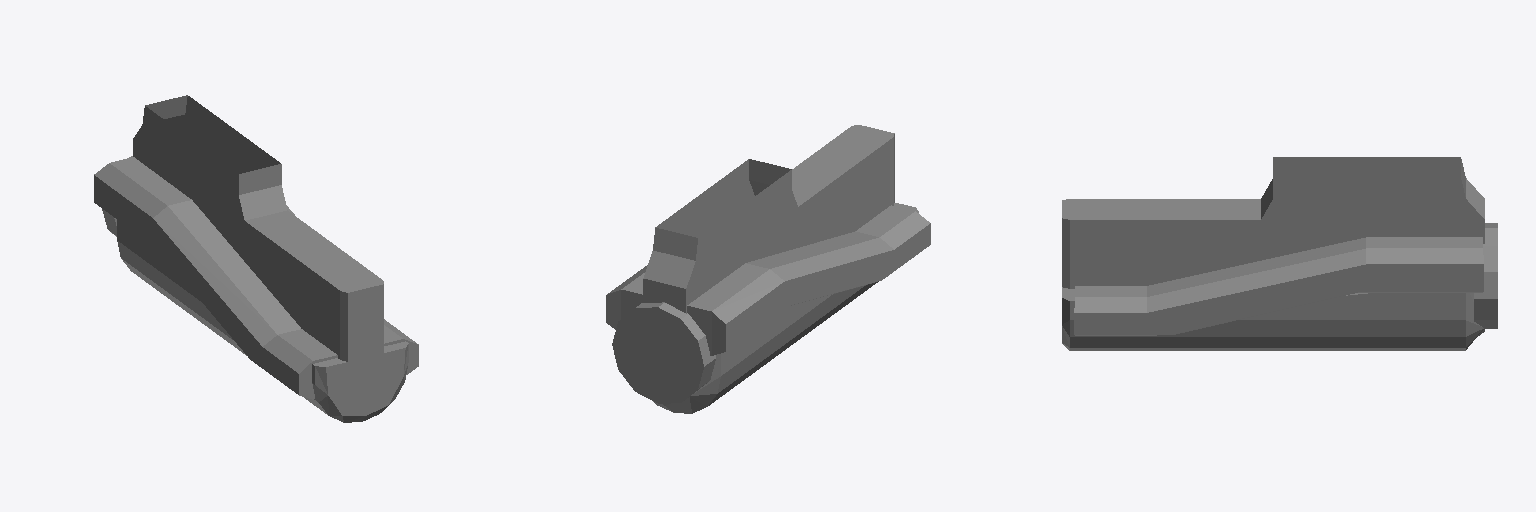
File: acc2.obj
The picture shows the model from 3 angles: view 1: azimuth 30°, elevation 25°; view 2: azimuth 150°, elevation 25°; view 3: azimuth 270°, elevation 25°; orthographic projection.
Visible parts, largest first — view 1: acc2; view 2: acc2; view 3: acc2.
Part boxes in pixels (x1,y1,x2,y2): acc2: (94,95,418,422); acc2: (606,125,930,413); acc2: (1062,157,1497,350).
Bounding box in the file's own units: 5.28 × 7.52 × 16.65.